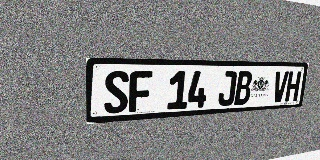1: (167, 71, 189, 110)
4: (187, 71, 208, 108)
B: (234, 71, 253, 105)
F: (129, 71, 152, 112)
H: (285, 71, 302, 102)
J: (217, 71, 237, 106)
S: (104, 71, 129, 114)
V: (271, 71, 289, 103)
